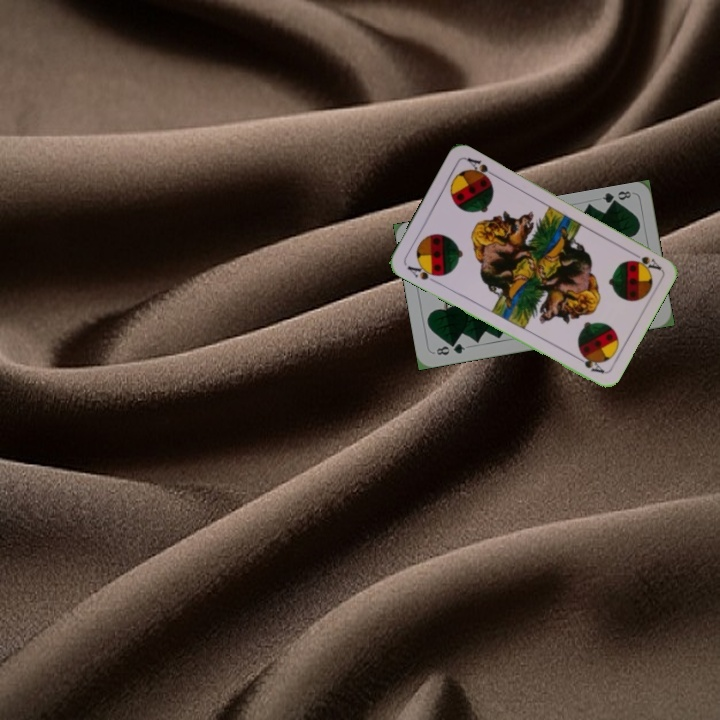G8: (598, 187, 633, 209), (432, 339, 468, 358)
SA: (626, 247, 664, 273), (403, 260, 443, 283)
